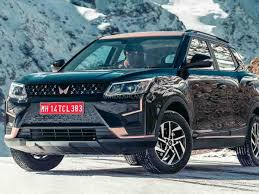XUV 400: (2, 30, 259, 174)
